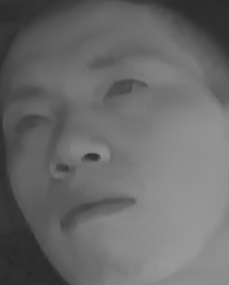eye: (95, 74, 152, 108), (7, 110, 53, 142)
mouth: (42, 186, 142, 248)
